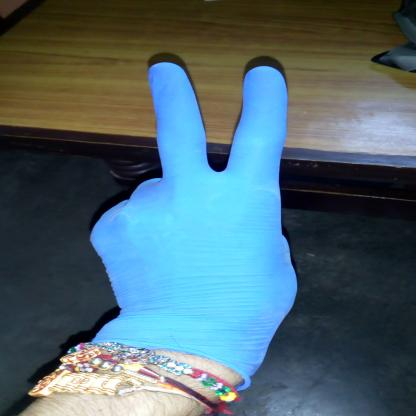gloved_hand: (67, 59, 310, 399)
